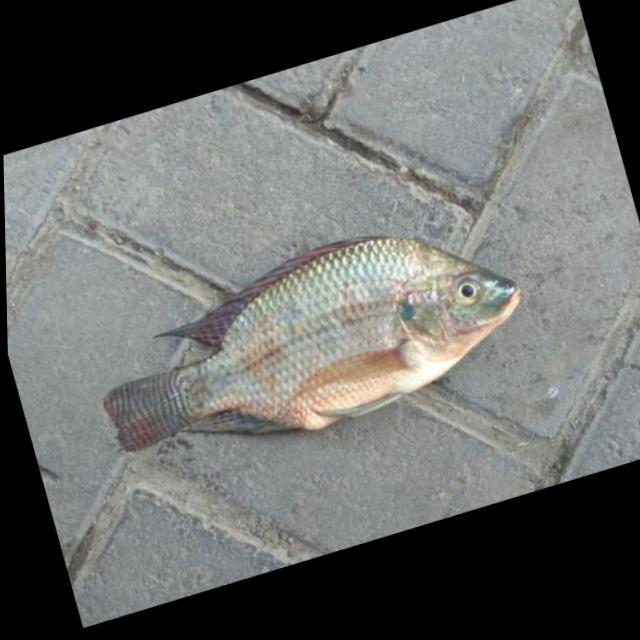Tilapia: (71, 190, 542, 496)
